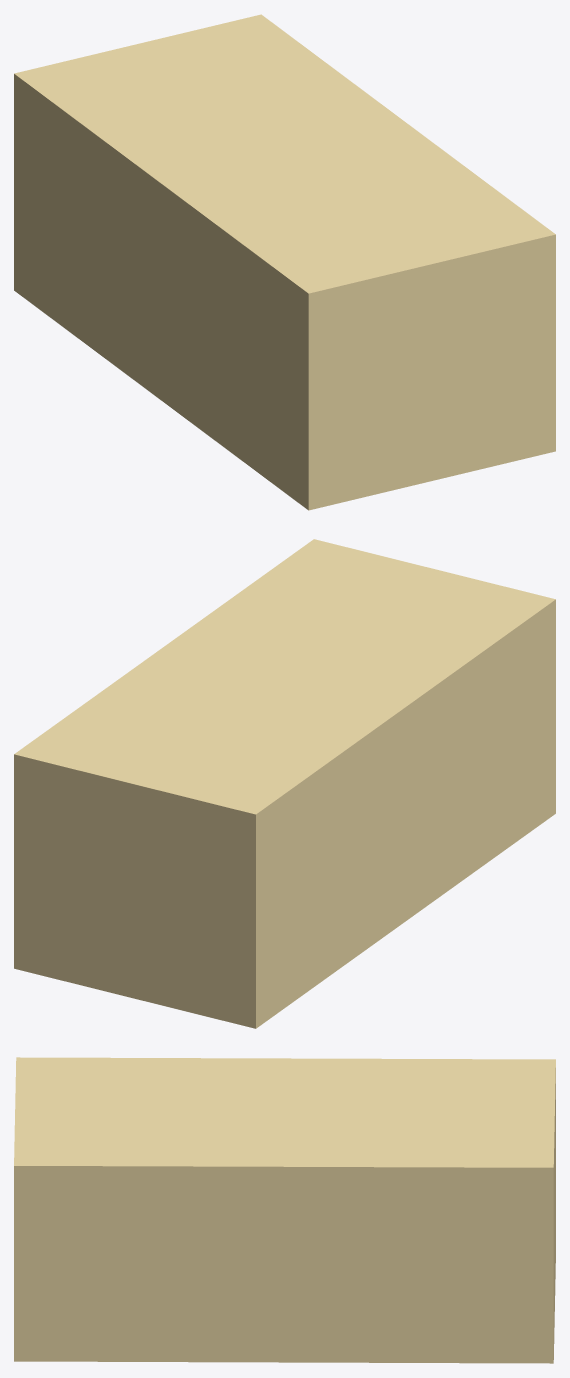
3 renders of one model, top to bottom at view 1: azimuth 30°, elevation 25°; view 2: azimuth 150°, elevation 25°; view 3: azimuth 270°, elevation 25°, orthographic. The views are drawn at different scales.
Parts seen in each view (by area): view 1: Object40; view 2: Object40; view 3: Object40.
Boxes of the visible parts, x1,y1,x2,y2 form: Object40: [14, 14, 555, 510]; Object40: [14, 539, 555, 1028]; Object40: [14, 1057, 555, 1363].
Size of the model in its own units: 17.25 by 14.26 by 35.8.
